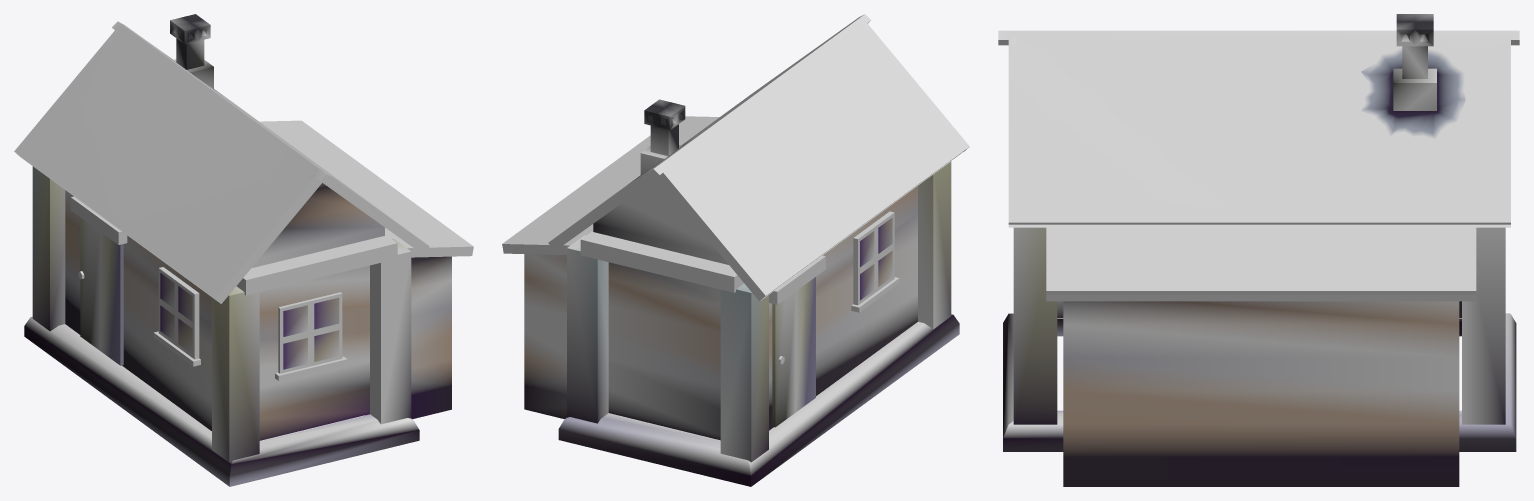
Rendered from House3V3.fbx.
3 views of the same model, side by side, from view 1: azimuth 30°, elevation 25°; view 2: azimuth 150°, elevation 25°; view 3: azimuth 270°, elevation 25° (orthographic). The views are drawn at different scales.
Visible parts, largest first — view 1: House3; view 2: House3; view 3: House3.
Boxes of the visible parts, left/top/right/bottom form: House3: left=14, top=14, right=473, bottom=486; House3: left=502, top=14, right=969, bottom=486; House3: left=998, top=14, right=1519, bottom=486.
Bounding box in the file's own units: 362 × 395 × 477.
